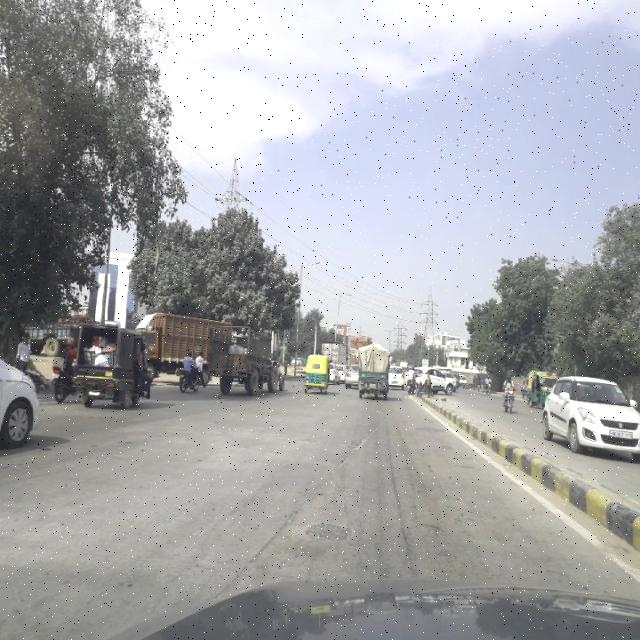D01: (326, 425, 374, 479), (266, 487, 314, 541)
D50: (300, 518, 354, 542)
